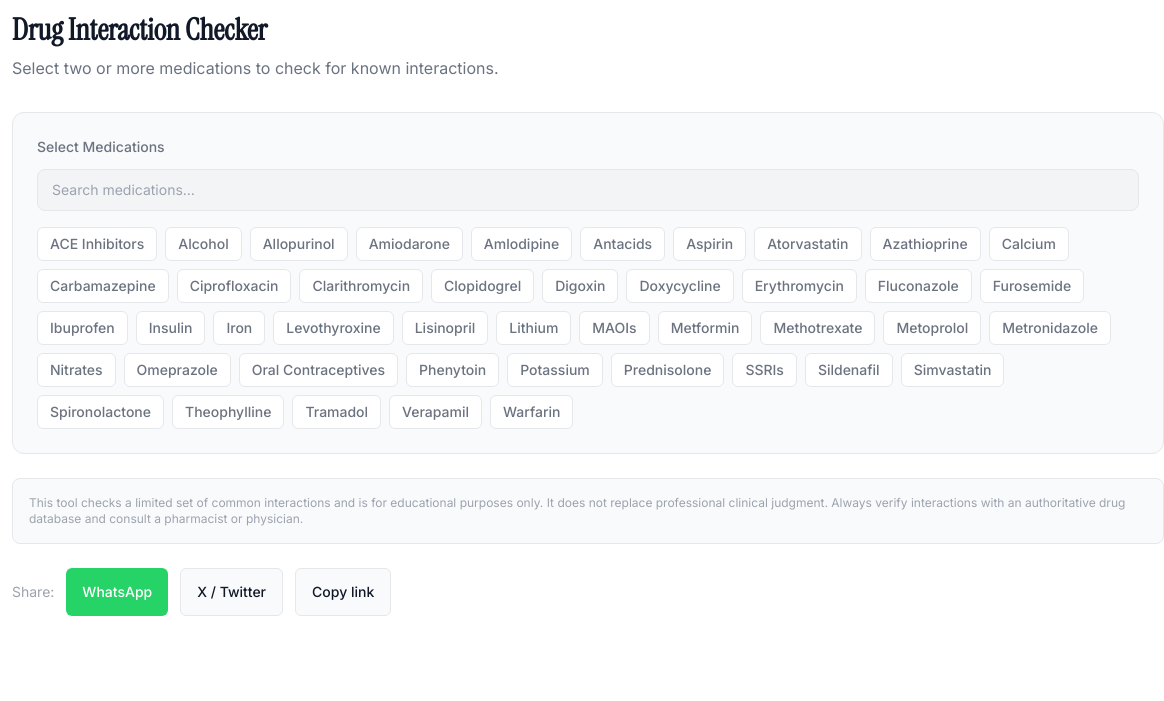
Test: DrugInteractionChecker › shows no interactions message for non-interacting drugs
Click the button "Metformin". click: click(705, 328)
box: [658, 311, 752, 345]
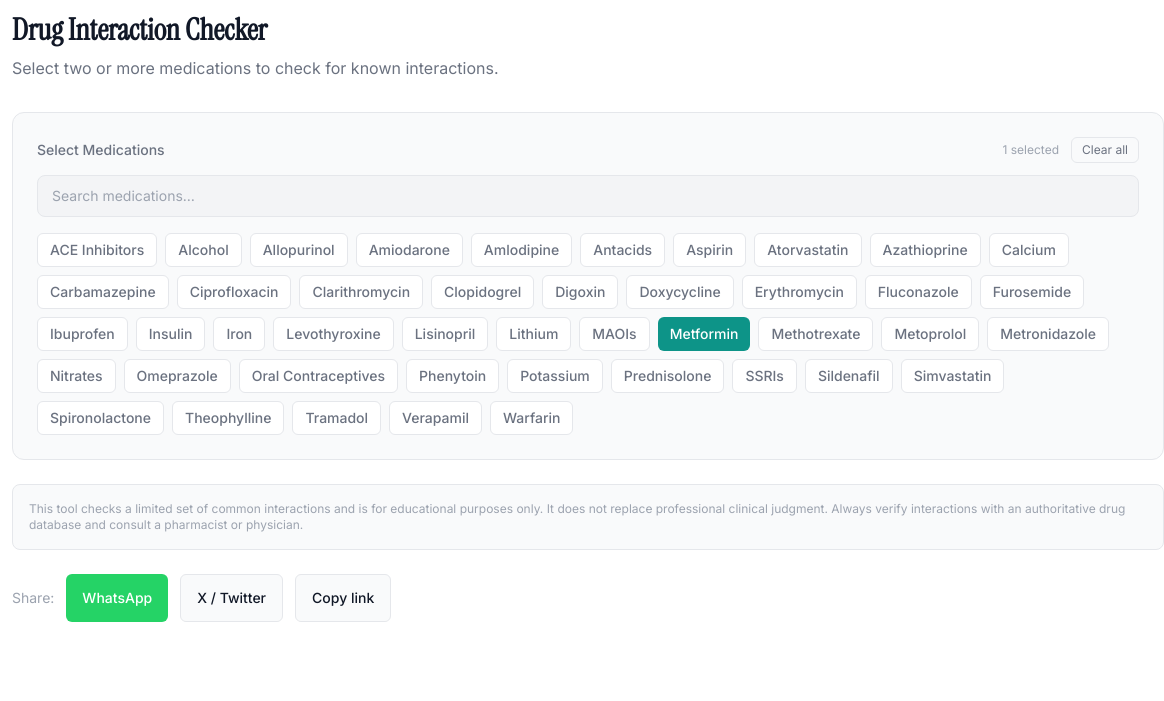
Click the button "Simvastatin". click: click(953, 376)
box: [901, 359, 1004, 393]
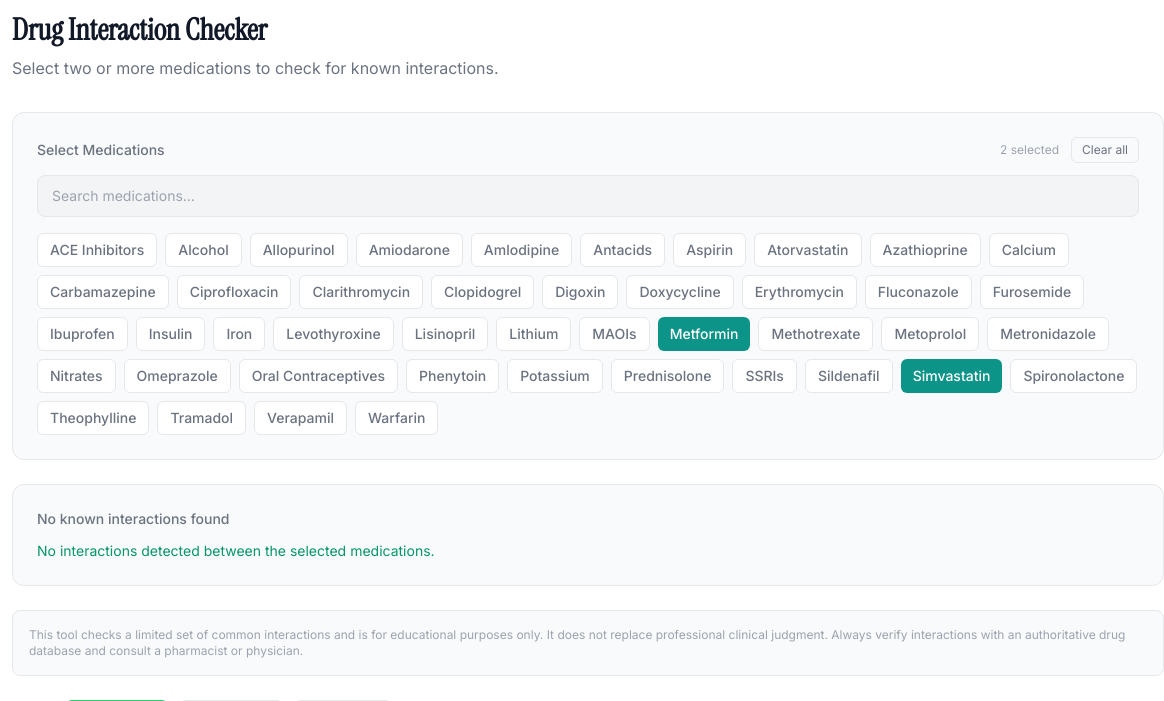
Result: the heading "No known interactions found" is shown at [37, 510, 230, 527]
